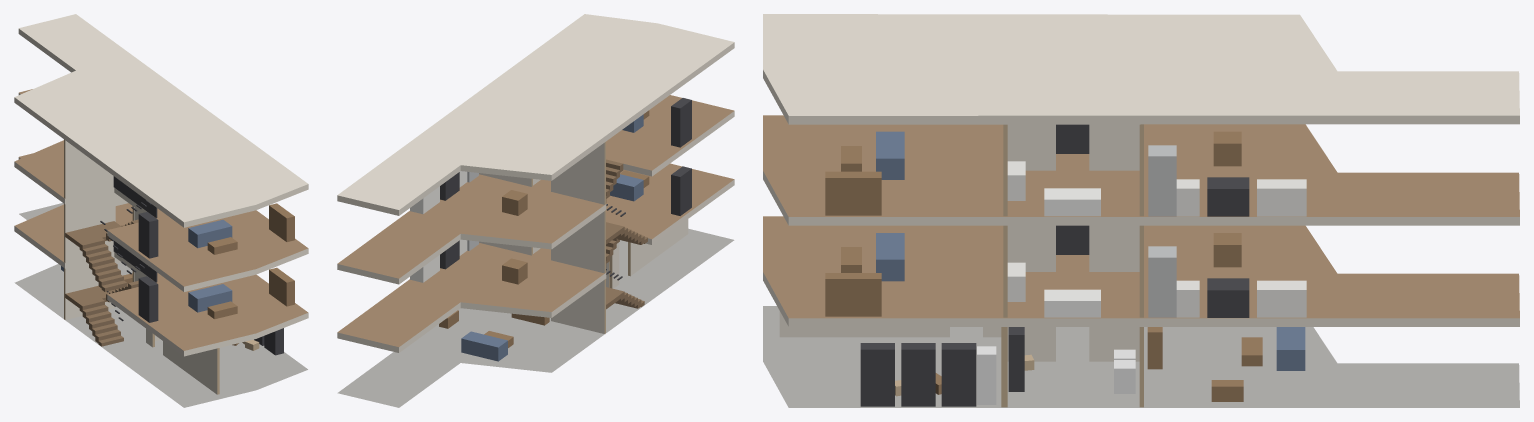
The model's file is interior.glb.
3 renders of one model, left to right at view 1: azimuth 30°, elevation 25°; view 2: azimuth 150°, elevation 25°; view 3: azimuth 270°, elevation 25°, orthographic. The views are drawn at different scales.
Parts seen in each view (by area): view 1: slabs, partitions, stair, coarse-s1, coarse-s2, coarse-s0; view 2: slabs, partitions, coarse-s1, coarse-s2, stair, coarse-s0; view 3: slabs, partitions, coarse-s2, coarse-s1, coarse-s0, stair.
Part boxes in pixels (x1=…): slabs: x1=14, y1=14, x2=308, y2=407; partitions: x1=64, y1=139, x2=219, y2=394; stair: x1=65, y1=176, x2=157, y2=346; coarse-s1: x1=138, y1=267, x2=294, y2=322; coarse-s2: x1=138, y1=203, x2=294, y2=258; coarse-s0: x1=61, y1=266, x2=283, y2=355; slabs: x1=337, y1=14, x2=734, y2=407; partitions: x1=479, y1=142, x2=688, y2=333; coarse-s1: x1=410, y1=166, x2=691, y2=284; coarse-s2: x1=410, y1=98, x2=691, y2=215; stair: x1=606, y1=159, x2=647, y2=309; coarse-s0: x1=439, y1=310, x2=549, y2=361; slabs: x1=763, y1=14, x2=1519, y2=407; partitions: x1=779, y1=124, x2=1143, y2=407; coarse-s2: x1=825, y1=131, x2=1306, y2=216; coarse-s1: x1=825, y1=233, x2=1306, y2=317; coarse-s0: x1=860, y1=327, x2=1305, y2=406; stair: x1=1056, y1=124, x2=1089, y2=254.
Size of the model in its own units: 6.53 by 8.75 by 20.5.
